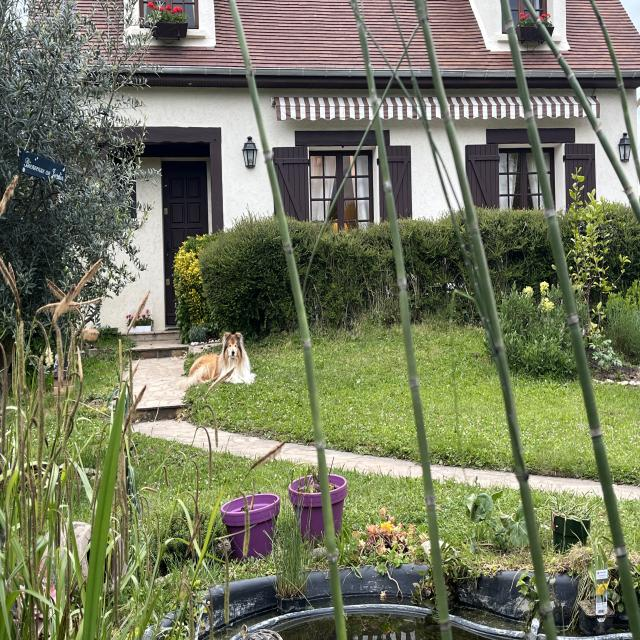Dog: (180, 322, 263, 397)
